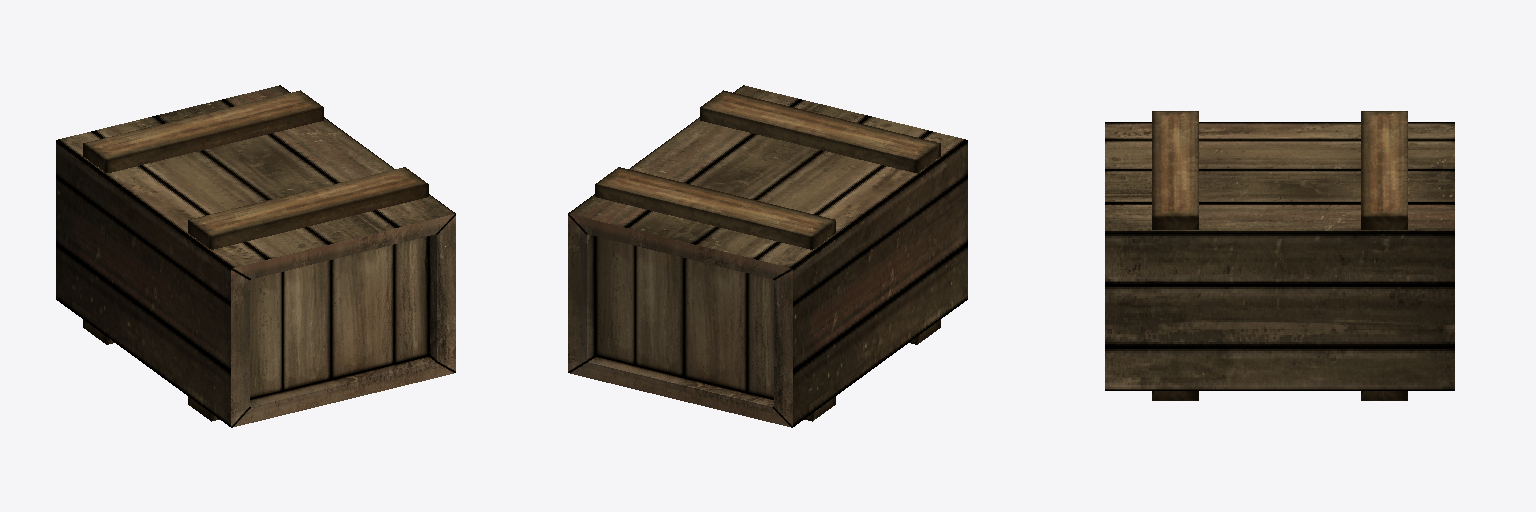
3 renders of one model, left to right at view 1: azimuth 30°, elevation 25°; view 2: azimuth 150°, elevation 25°; view 3: azimuth 270°, elevation 25°, orthographic.
Parts seen in each view (by area): view 1: SM_Pickup_Ammo_Crate; view 2: SM_Pickup_Ammo_Crate; view 3: SM_Pickup_Ammo_Crate.
Boxes of the visible parts, <box> form: SM_Pickup_Ammo_Crate: <box>56,85,455,427</box>; SM_Pickup_Ammo_Crate: <box>568,85,967,427</box>; SM_Pickup_Ammo_Crate: <box>1105,111,1454,400</box>.
Bounding box in the file's own units: 0.45 × 0.3532 × 0.6085.
Materials: 1 (1 with a texture image).